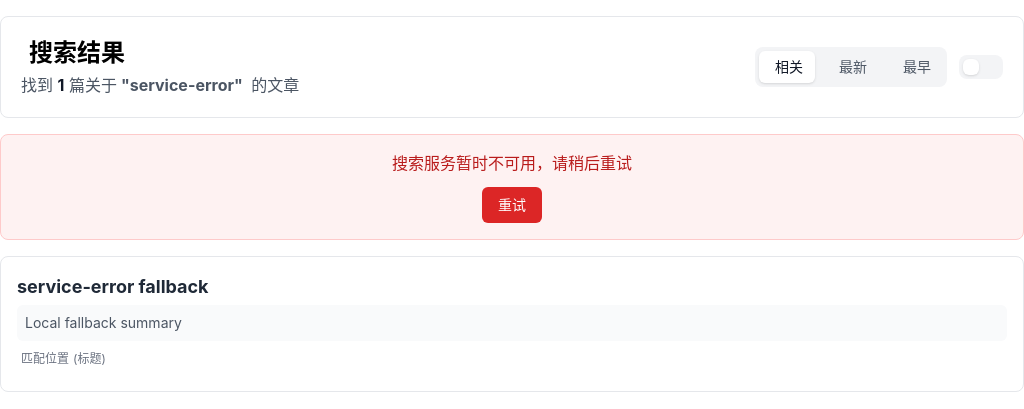
heo search result jump navigation › shows a retryable service error instead of the empty state when Algolia rejects
Check: the text "搜索服务暂时不可用，请稍后重试" is shown, box [392,153,632,173]
Check: the text "(标题)" is shown, box [73,351,106,367]
Click the button "重试".
click(512, 205)  # box [482,187,542,223]
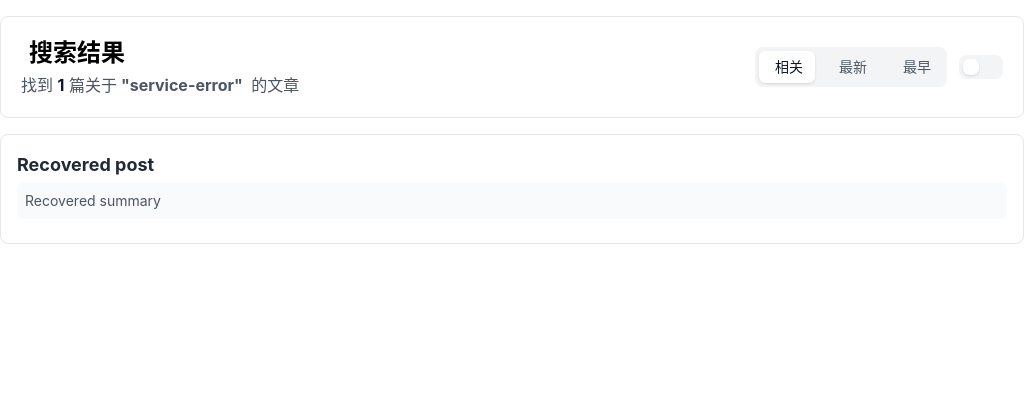
Check: the text "Recovered post" is shown, box [17,154,154,175]
